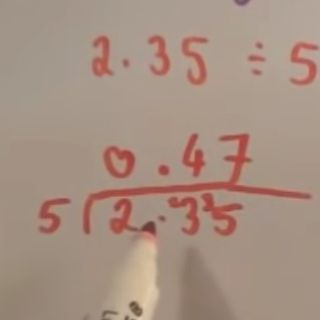.: (155, 160, 172, 178), (118, 52, 133, 69)
0: (100, 143, 138, 181)
2: (84, 32, 116, 78), (107, 198, 140, 236)
3: (145, 32, 174, 77)
4: (180, 134, 208, 179)
5: (181, 30, 214, 86), (286, 40, 320, 87), (36, 195, 73, 238)
7: (217, 130, 254, 182)
